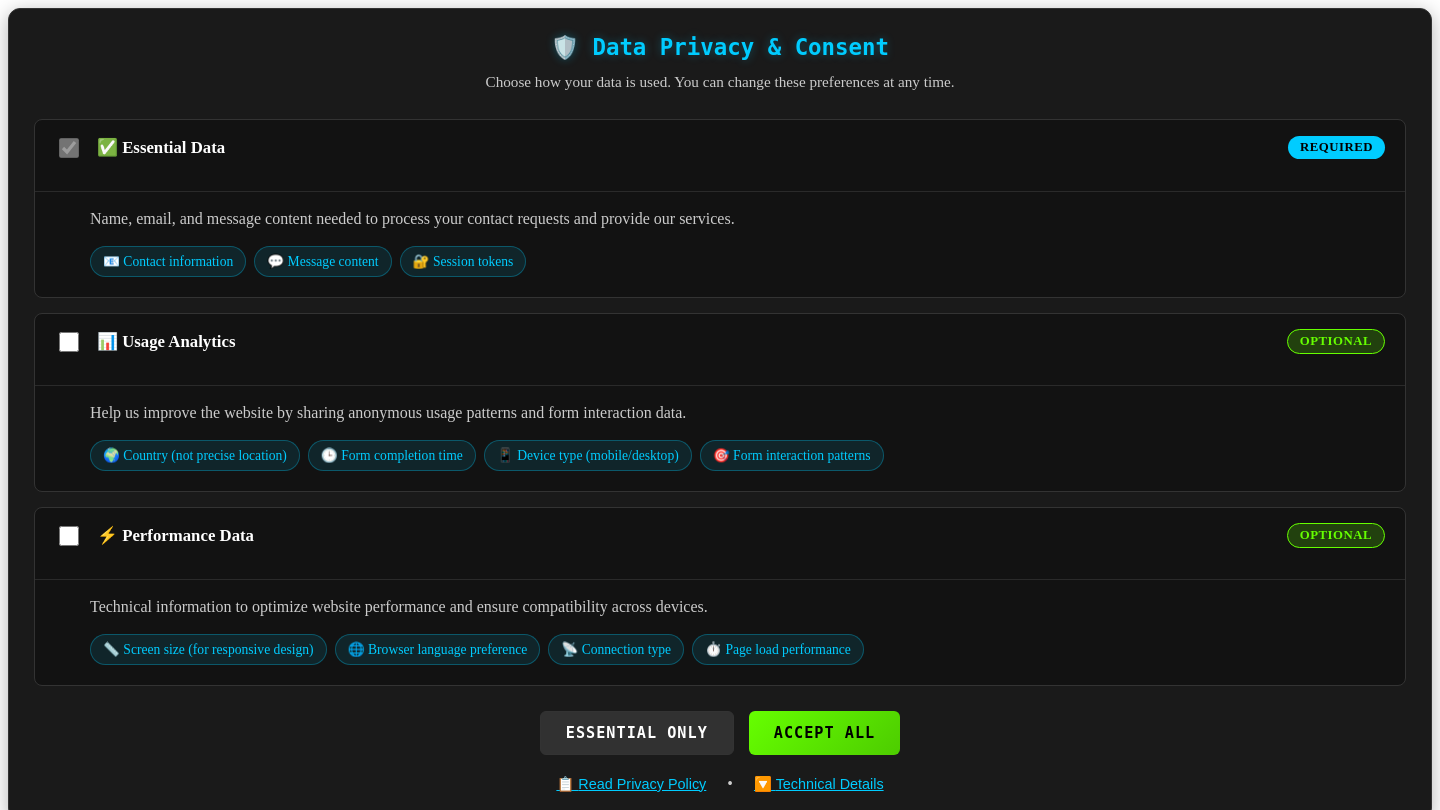
Test: PrivacyConsent Component › Technical Details toggle › shows technical details when toggle is clicked
Step 1. Click the button "🔽 Technical Details" → (819, 784), box [748, 775, 890, 794]
(page scrolled)
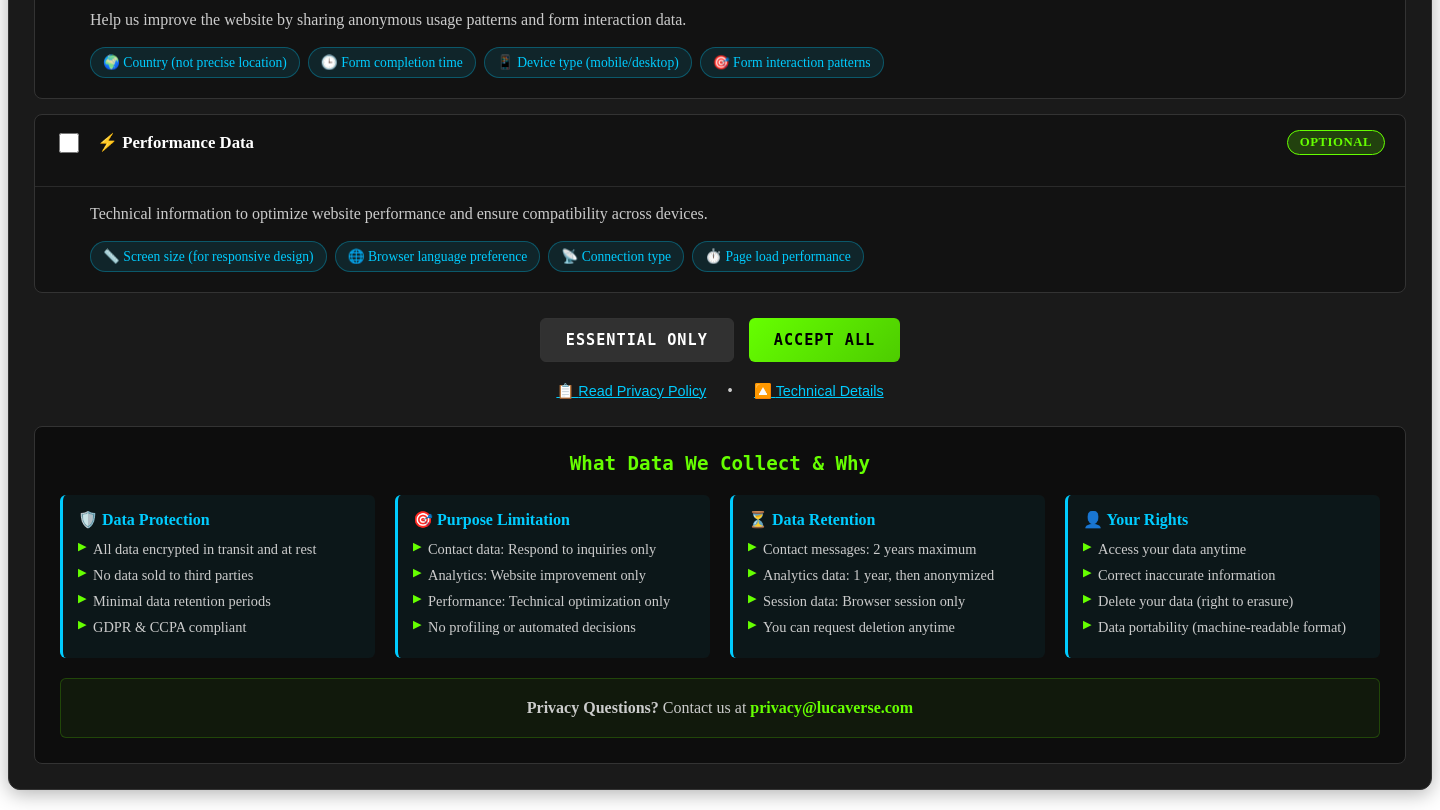
expect the heading "What Data We Collect & Why" is shown: met, box [570, 452, 870, 475]
